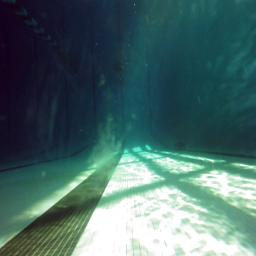front: (174, 138, 186, 150)
